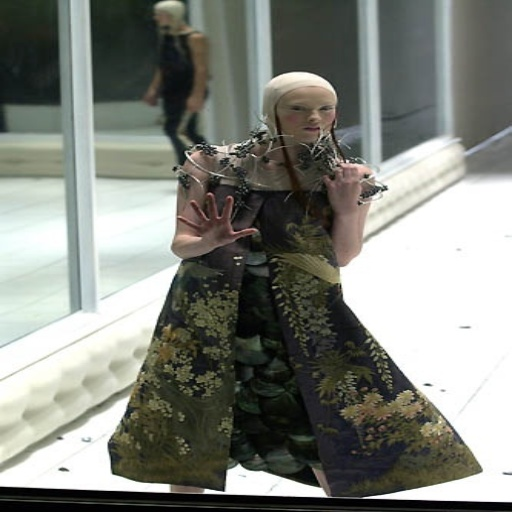hand: (170, 191, 259, 259), (322, 161, 362, 213)
